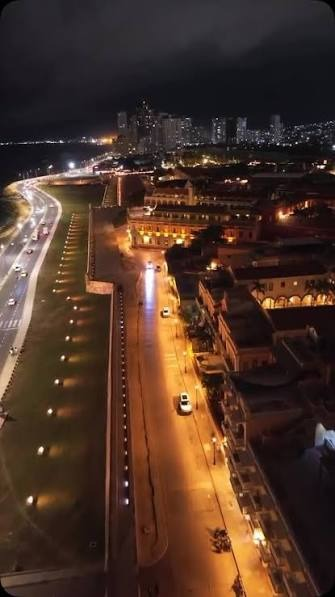car: (192, 294, 318, 522), (182, 263, 317, 428), (175, 389, 191, 418), (178, 392, 189, 415)
